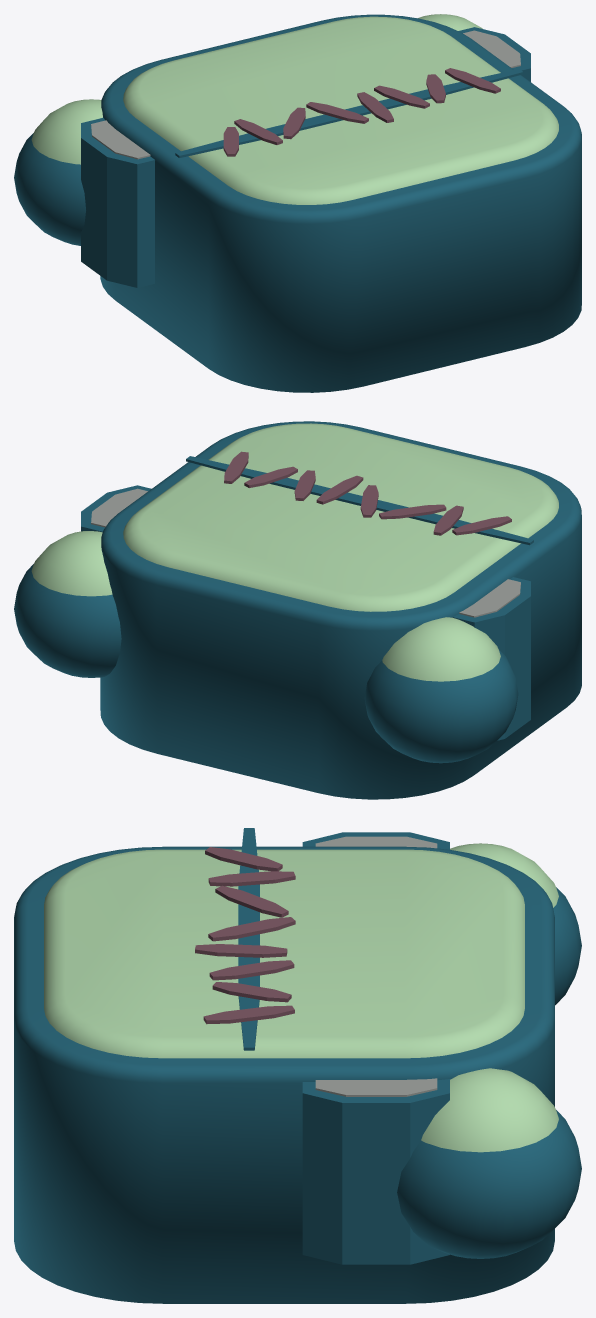
File: body_frankenstein.fbx
3 renders of one model, top to bottom at view 1: azimuth 30°, elevation 25°; view 2: azimuth 150°, elevation 25°; view 3: azimuth 270°, elevation 25°, orthographic. The views are drawn at different scales.
Parts seen in each view (by area): view 1: body_frankenstein_corpo, body_frankenstein_mao_esq, body_frankenstein_mao; view 2: body_frankenstein_corpo, body_frankenstein_mao_esq, body_frankenstein_mao; view 3: body_frankenstein_corpo, body_frankenstein_mao, body_frankenstein_mao_esq.
Boxes of the visible parts, x1,y1,x2,y2 form: body_frankenstein_corpo: [81, 14, 581, 392]; body_frankenstein_mao_esq: [14, 99, 102, 245]; body_frankenstein_mao: [418, 14, 482, 30]; body_frankenstein_corpo: [81, 421, 581, 799]; body_frankenstein_mao_esq: [364, 617, 518, 763]; body_frankenstein_mao: [14, 531, 121, 677]; body_frankenstein_corpo: [14, 828, 554, 1303]; body_frankenstein_mao: [397, 1068, 581, 1258]; body_frankenstein_mao_esq: [450, 843, 581, 1005].
Size of the model in its own units: 5.4 by 2.06 by 4.2.
Materials: 1 (1 with a texture image).
